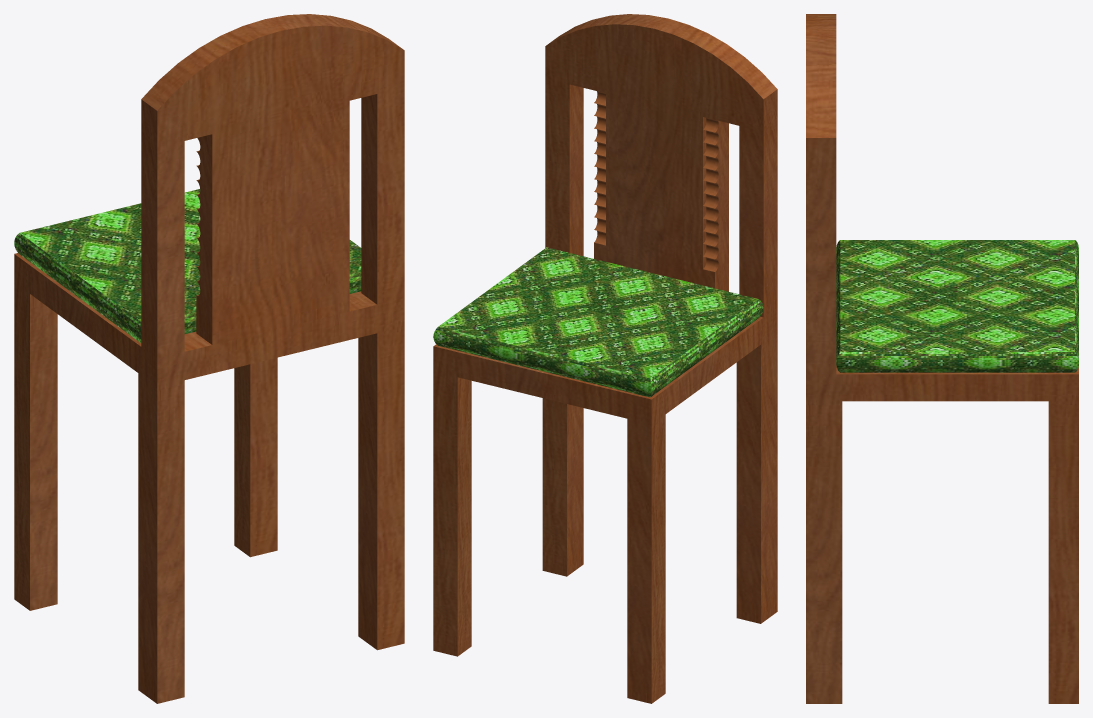
The picture shows the model from 3 angles, left to right: view 1: azimuth 30°, elevation 25°; view 2: azimuth 150°, elevation 25°; view 3: azimuth 270°, elevation 25°; orthographic projection. The views are drawn at different scales.
Parts seen in each view (by area): view 1: SketchUp_ID2, SketchUp_ID15; view 2: SketchUp_ID2, SketchUp_ID15; view 3: SketchUp_ID2, SketchUp_ID15.
Part boxes in pixels (left/top/right/bottom): SketchUp_ID2: left=14, top=14, right=404, bottom=703; SketchUp_ID15: left=14, top=189, right=361, bottom=342; SketchUp_ID2: left=433, top=14, right=777, bottom=703; SketchUp_ID15: left=433, top=247, right=763, bottom=397; SketchUp_ID2: left=806, top=14, right=1078, bottom=703; SketchUp_ID15: left=836, top=240, right=1078, bottom=372.
Bounding box in the file's own units: 0.3501 × 0.8688 × 0.3501.
